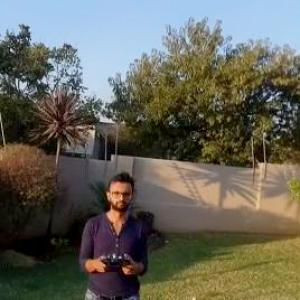follow: (74, 166, 152, 299)
